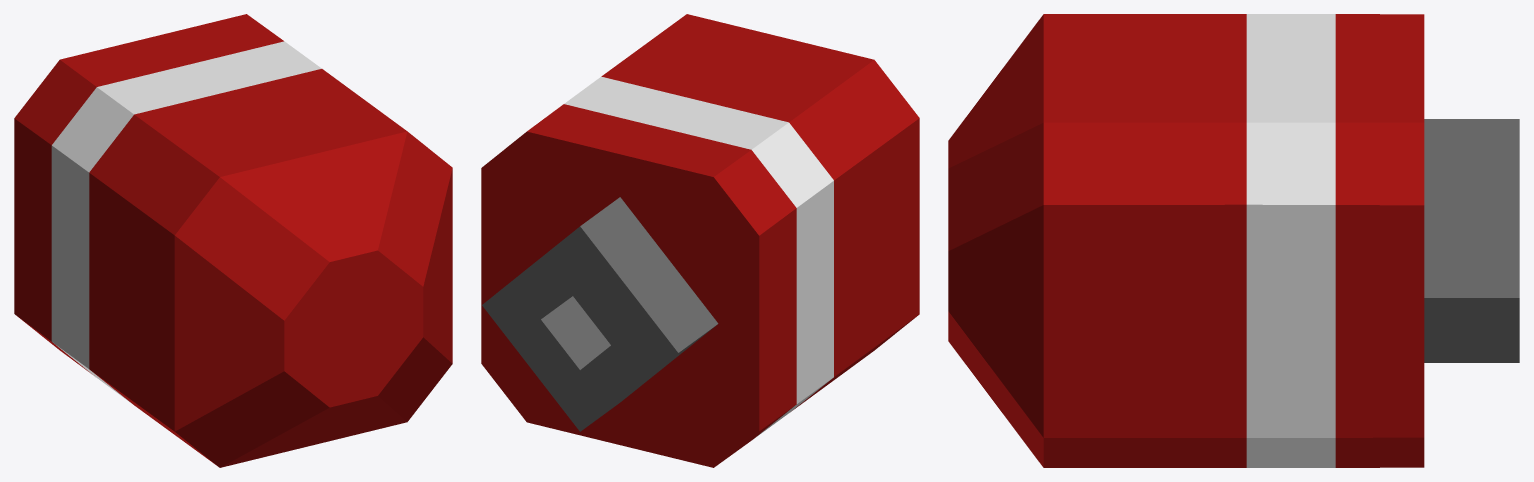
Rendered from WP_Grenade.fbx.
3 renders of one model, left to right at view 1: azimuth 30°, elevation 25°; view 2: azimuth 150°, elevation 25°; view 3: azimuth 270°, elevation 25°, orthographic. The views are drawn at different scales.
Parts seen in each view (by area): view 1: GRENADE_Body; view 2: GRENADE_Body, GRENADE_Top; view 3: GRENADE_Body, GRENADE_Top.
Boxes of the visible parts, x1,y1,x2,y2 form: GRENADE_Body: (14,14,452,467); GRENADE_Body: (481,14,919,467); GRENADE_Top: (482,197,718,431); GRENADE_Body: (948,14,1424,467); GRENADE_Top: (1424,119,1519,362).
Bounding box in the file's own units: 131 × 131 × 196.
